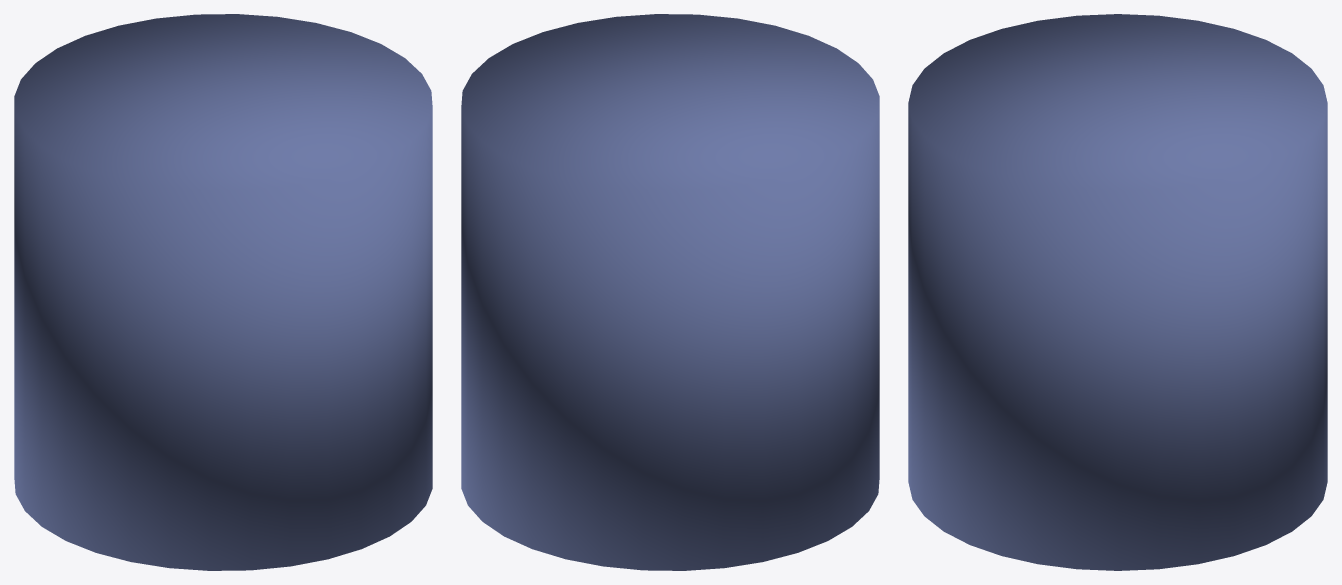
File: unitcylinder.fbx
3 views of the same model, side by side, from view 1: azimuth 30°, elevation 25°; view 2: azimuth 150°, elevation 25°; view 3: azimuth 270°, elevation 25° (orthographic).
Visible parts, largest first — view 1: Cylinder; view 2: Cylinder; view 3: Cylinder.
Part boxes in pixels (box(x1,y1,x2,y2)): Cylinder: box(14, 14, 432, 570); Cylinder: box(461, 14, 879, 570); Cylinder: box(908, 14, 1327, 570).
Size of the model in its own units: 2 by 2 by 2.
